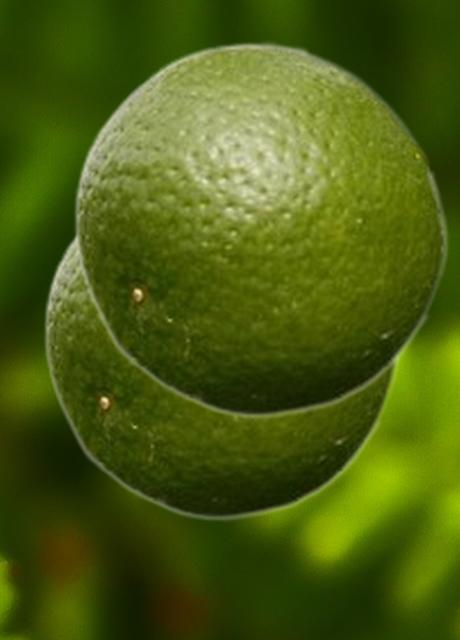calamansi: (73, 38, 448, 419), (43, 234, 399, 521)
